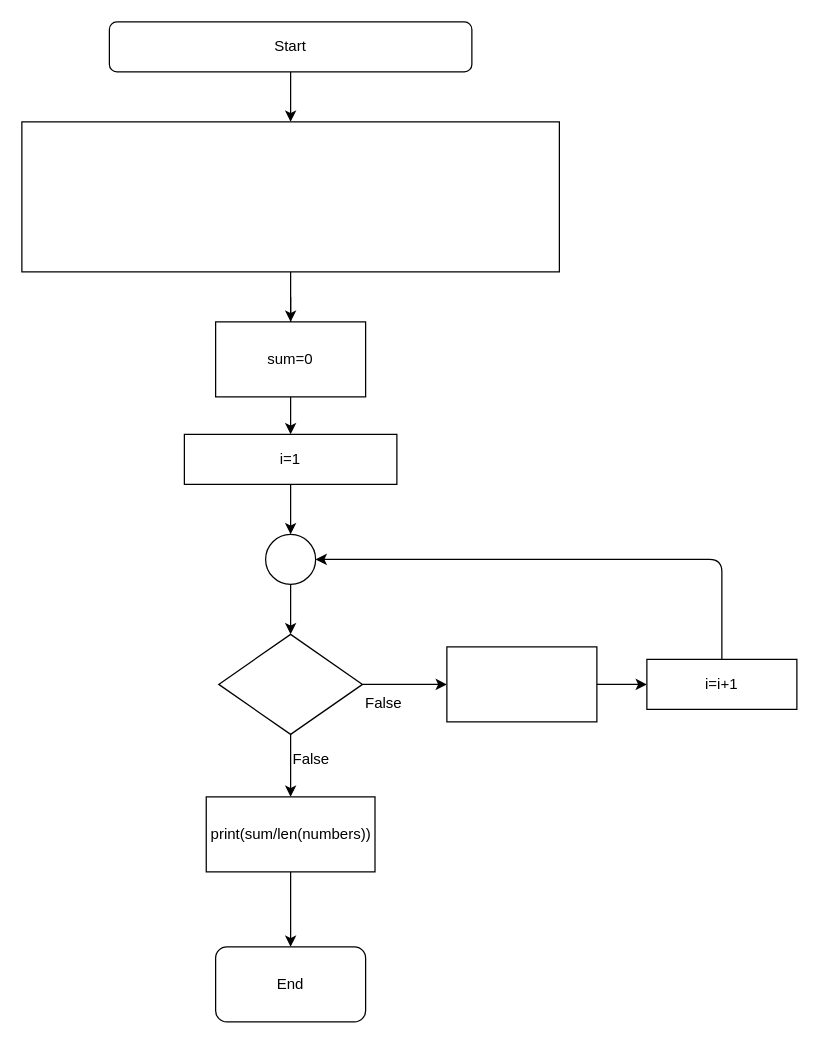
Image size: 819x1044. Some labels were removed from this diagram. The shapes that lost their labels are listed below. From the top down, each one's box as (x1, y1, x2, y2) in pixels, then its label:
(21, 121, 559, 272): numbers = [-5, 23, 0, -9, 12, 99, 105, -43]
(218, 633, 362, 734): i<N
(446, 646, 597, 722): sum=sum+numbers[i]
